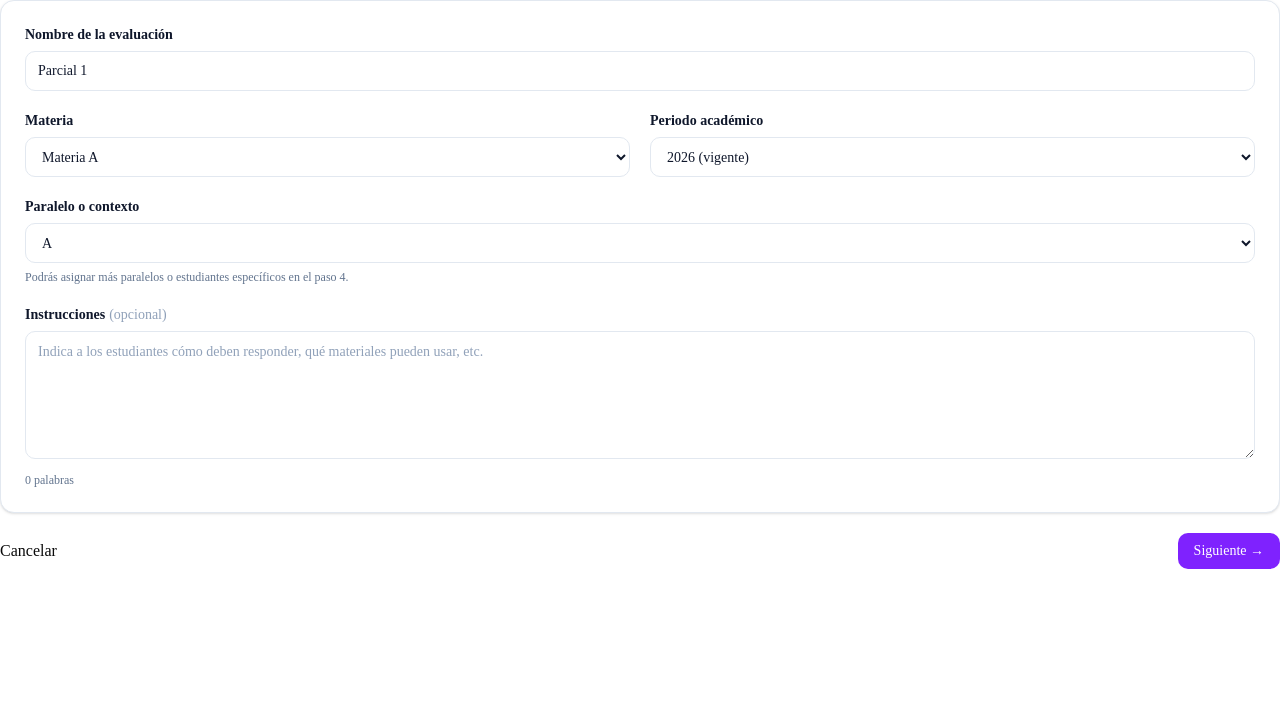
Test: EvaluacionInfoForm — advertencia de reinicio de asignaciones › muestra una sola advertencia si cambian varios campos
Select "Materia C" in the dropdown labelled "Materia": (328, 157) [25, 137, 630, 177]
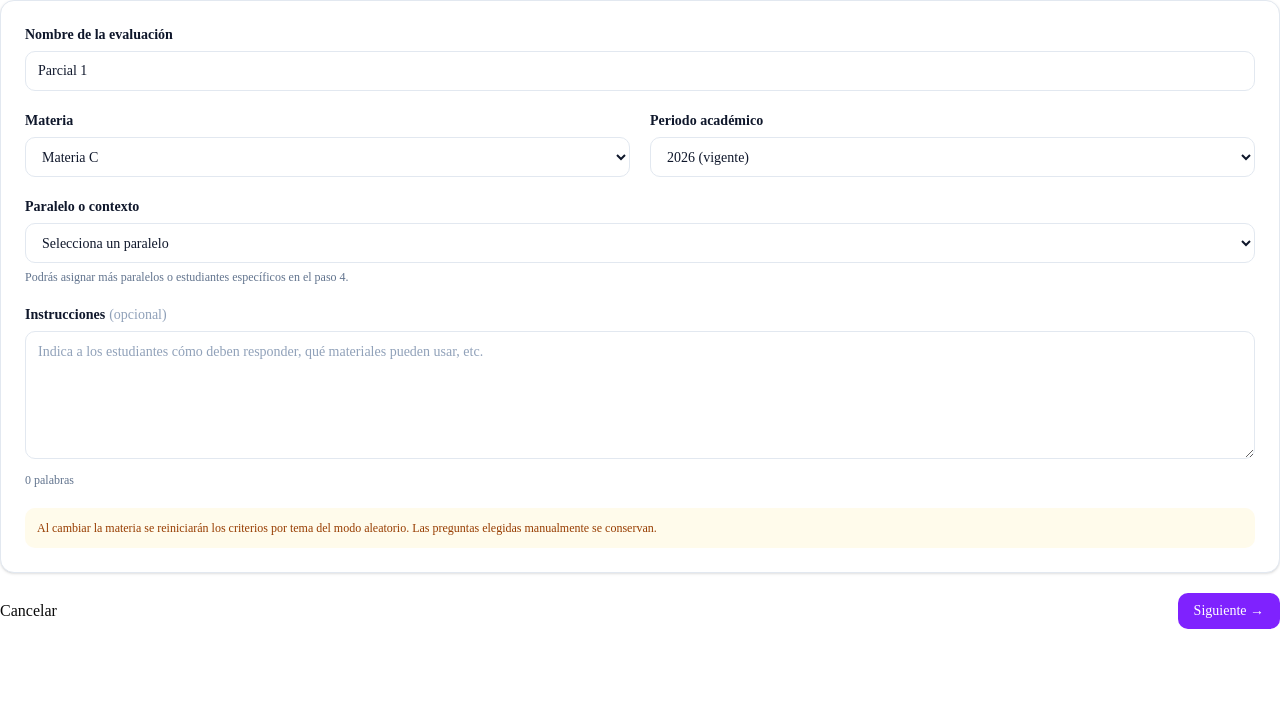
Select "C" in the dropdown labelled "Paralelo o contexto": (640, 243) [25, 223, 1255, 263]
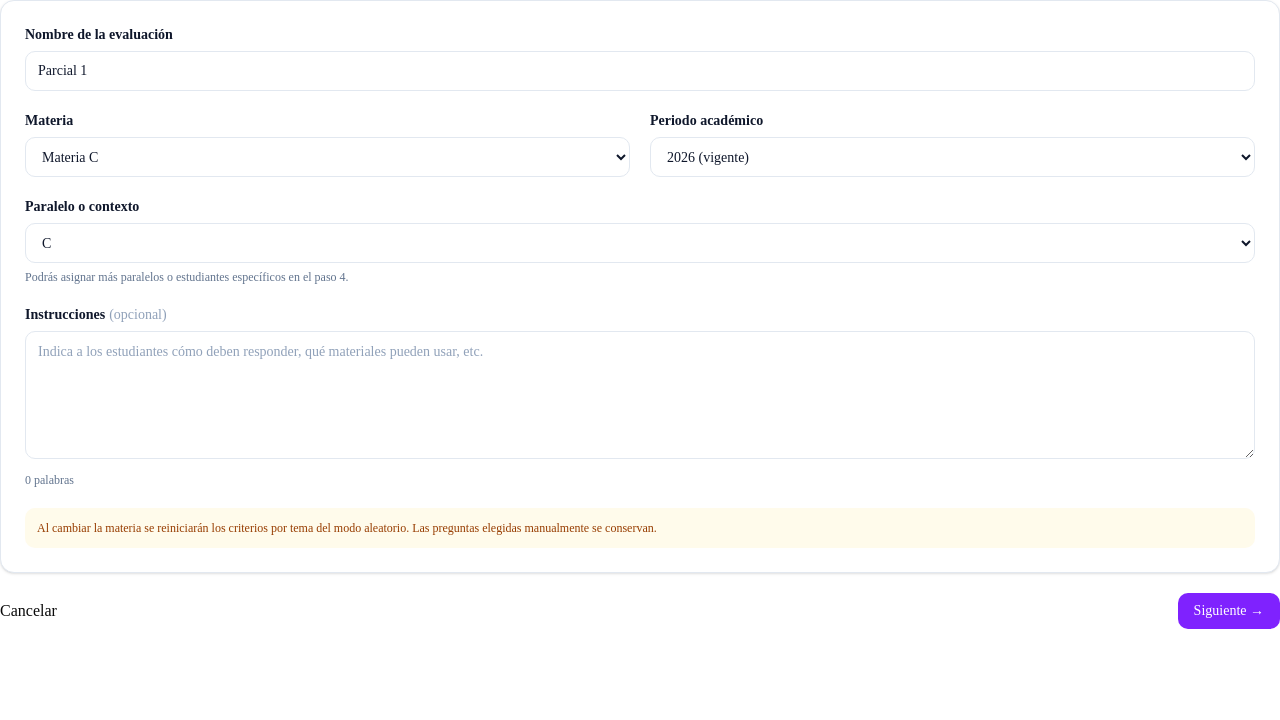
Replace the text in the field labelled "Nombre de la evaluación" with "Otro título": (640, 71) [25, 51, 1255, 91]
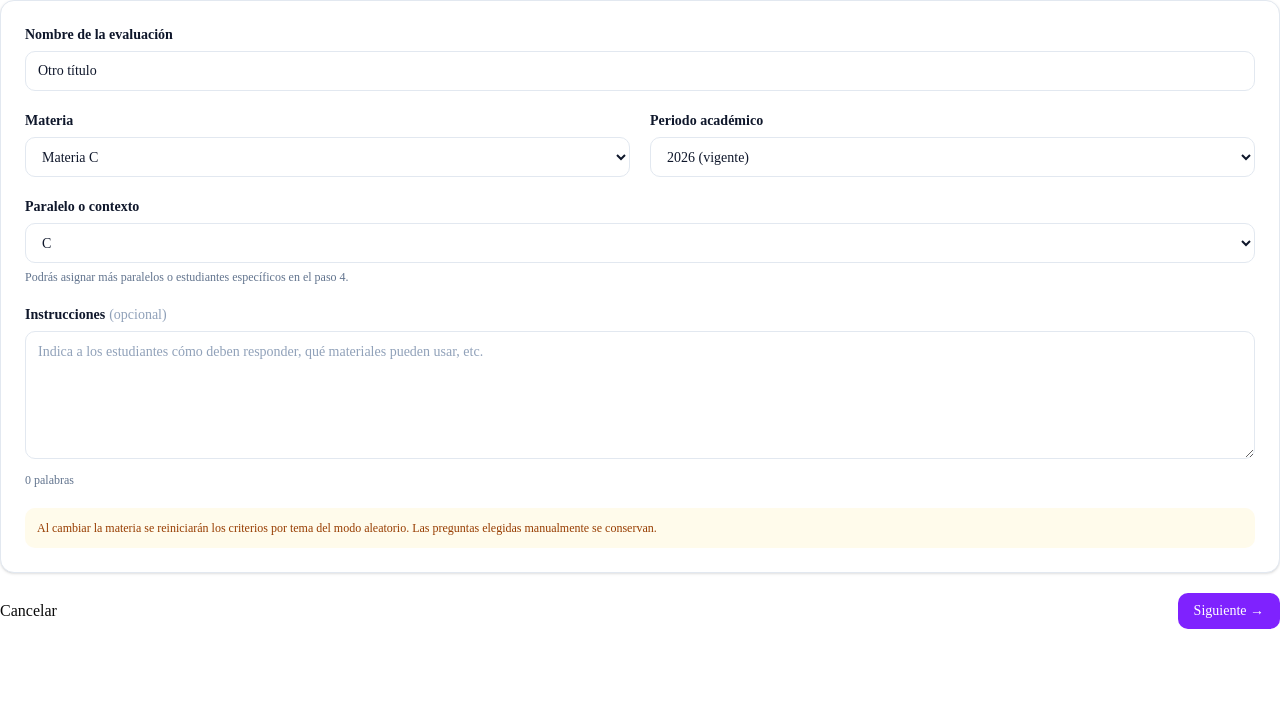
Replace the text in the text box labelled "Instrucciones(opcional)" with "Otras instrucciones": (640, 395) [25, 331, 1255, 459]
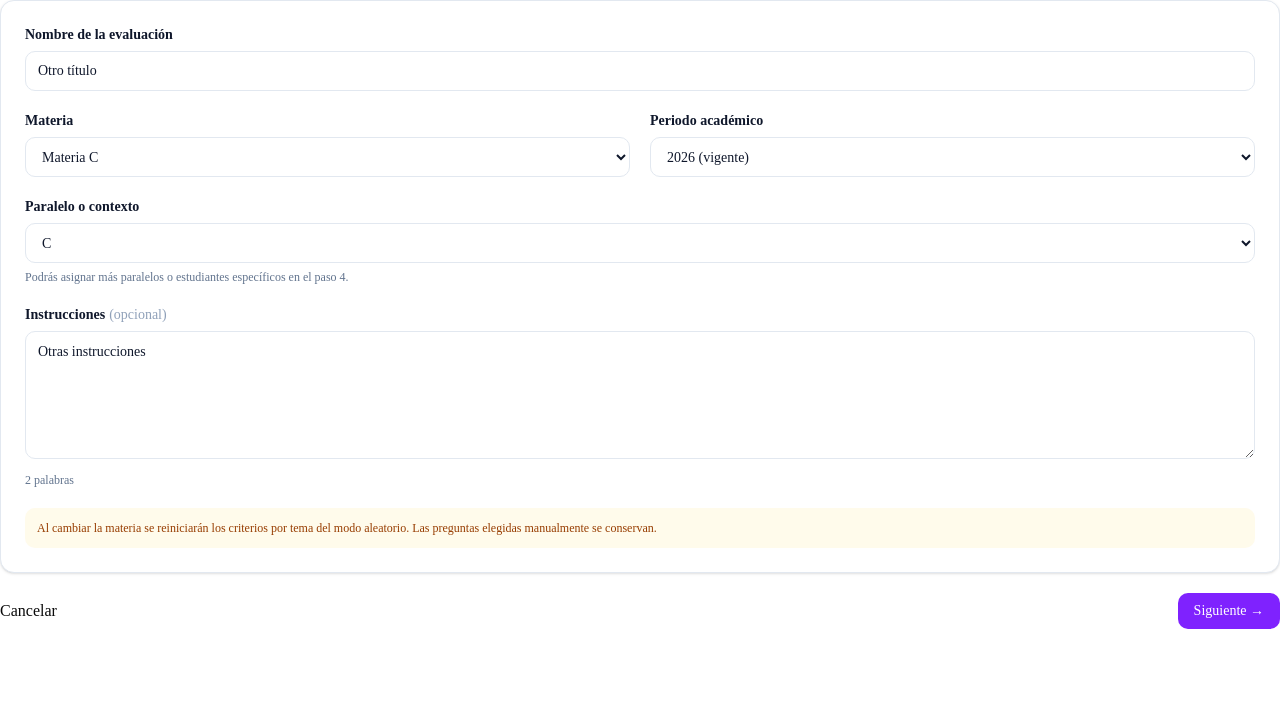
Click the button "Siguiente →": (1229, 611) [1178, 593, 1279, 629]
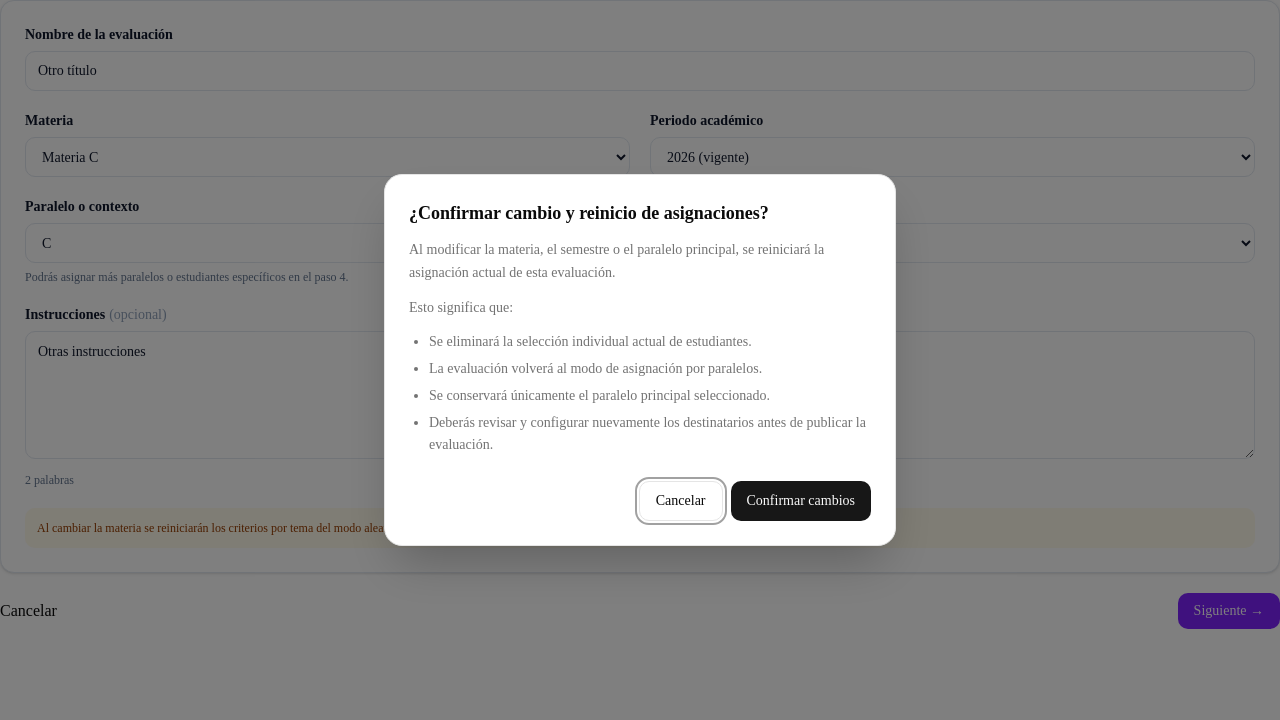
Now the number of dialogs is 1, box [384, 174, 896, 546]
